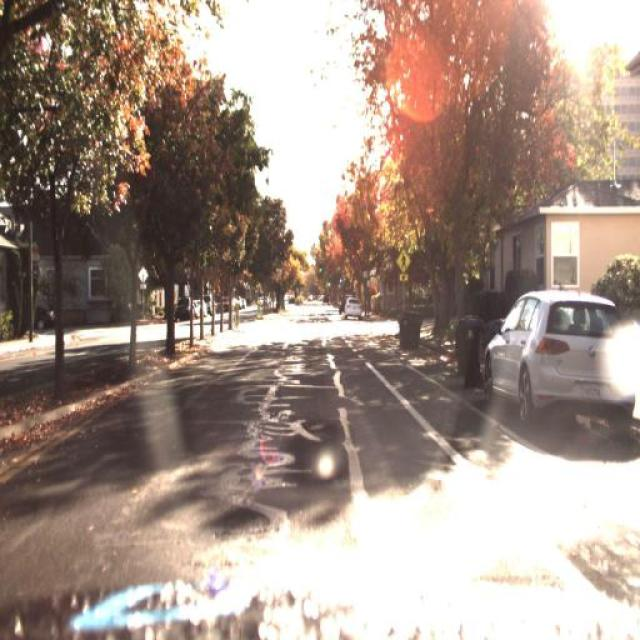car: (465, 286, 639, 444), (30, 299, 56, 336), (340, 300, 366, 330), (176, 296, 192, 320), (196, 300, 208, 318)
trafficLight-GreenLeft: (314, 258, 325, 283), (337, 270, 348, 288), (325, 278, 333, 292)
